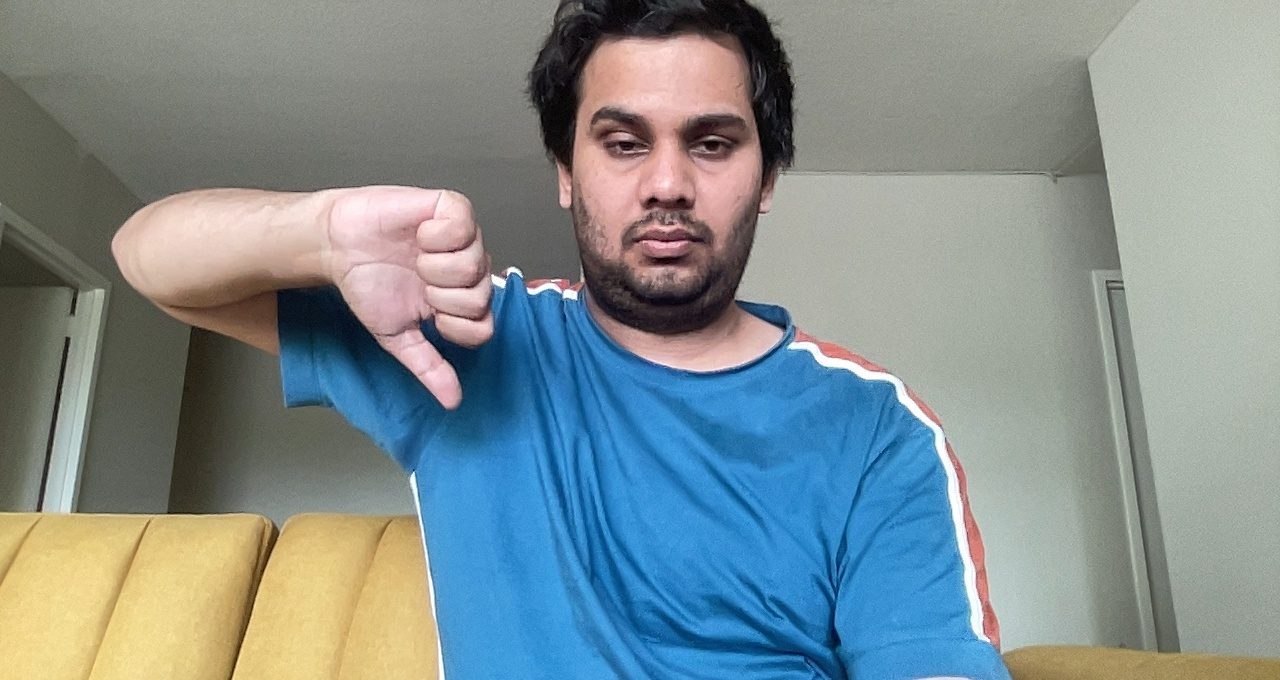thumbsdown: (311, 170, 511, 416)
